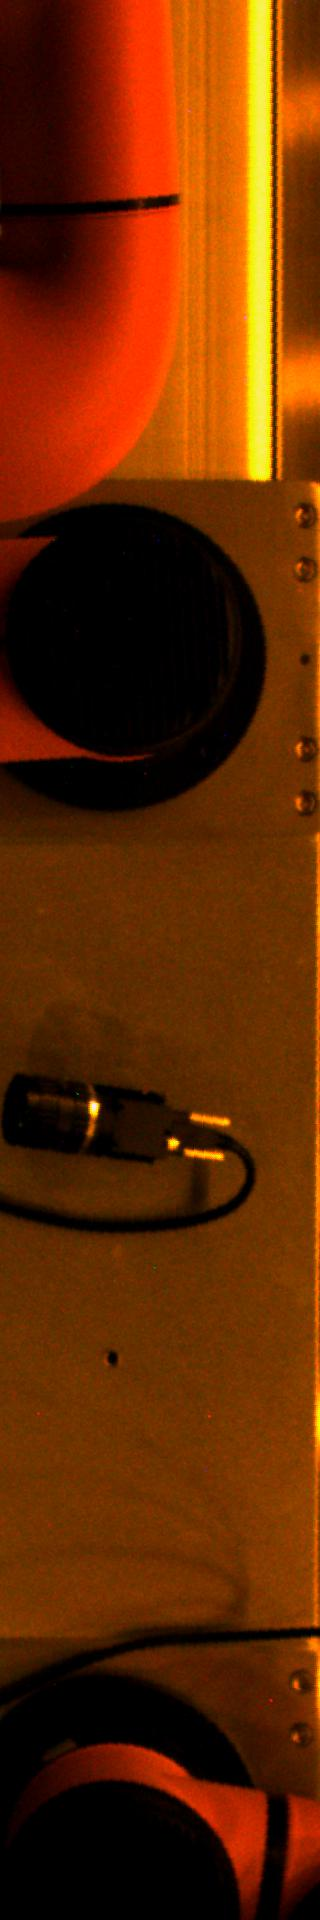keyPoint_2: (97, 1342, 128, 1371)
